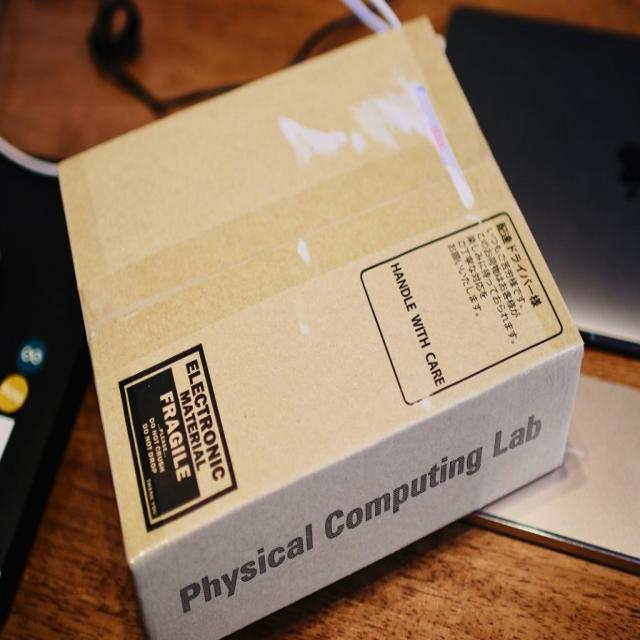-: (58, 8, 589, 640)
